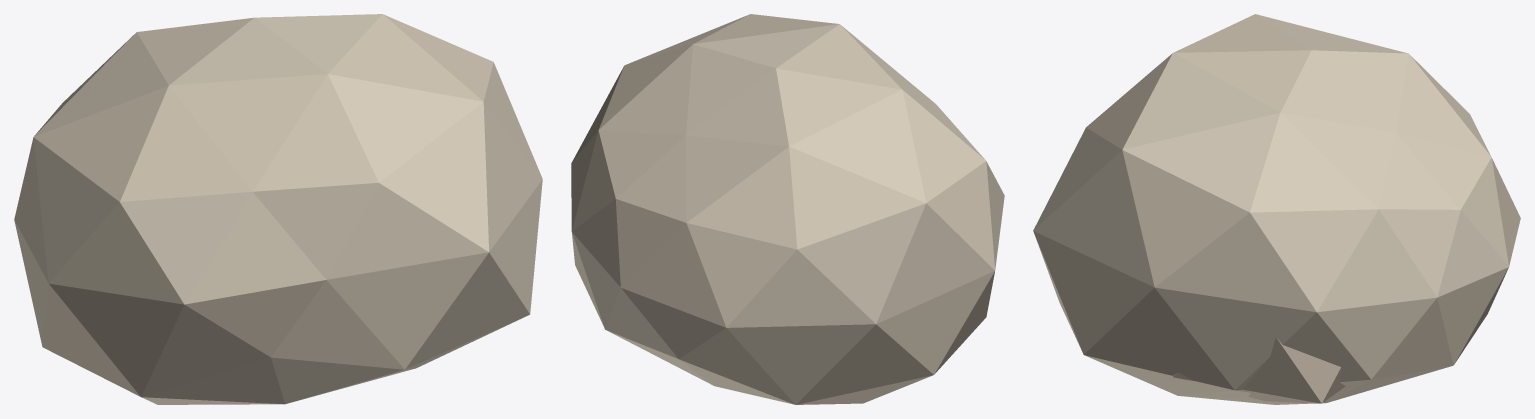
The model's file is campo_rock_granite_4.glb.
The picture shows the model from 3 angles, left to right: view 1: azimuth 30°, elevation 25°; view 2: azimuth 150°, elevation 25°; view 3: azimuth 270°, elevation 25°; orthographic projection. The views are drawn at different scales.
Visible parts, largest first — view 1: campo_rock_granite_4.glb; view 2: campo_rock_granite_4.glb; view 3: campo_rock_granite_4.glb.
Part boxes in pixels (bbox=[...]): campo_rock_granite_4.glb: bbox=[14, 14, 542, 404]; campo_rock_granite_4.glb: bbox=[571, 14, 1004, 404]; campo_rock_granite_4.glb: bbox=[1033, 14, 1520, 404].
Bounding box in the file's own units: 2.08 × 1.57 × 2.02.
